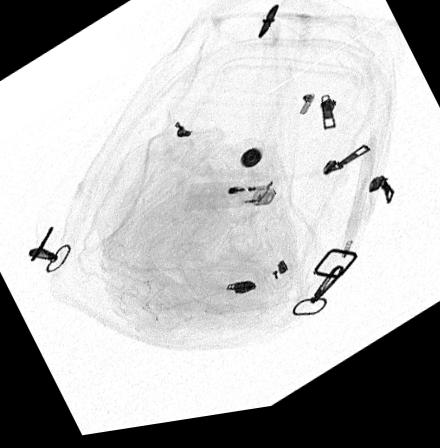Lighter: (184, 186, 281, 217)
